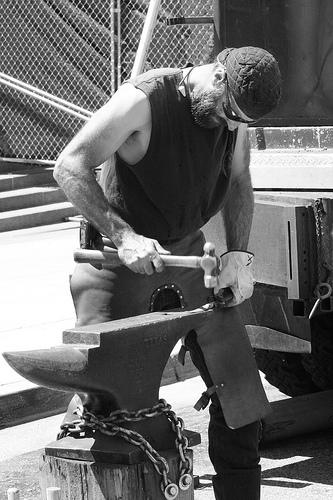hammer: (71, 239, 224, 291)
